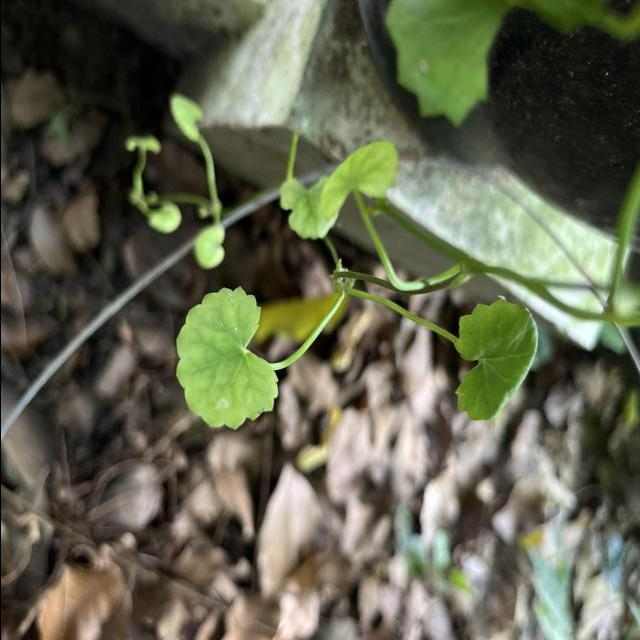Centella asiatica: (171, 284, 281, 432), (452, 295, 540, 424)
